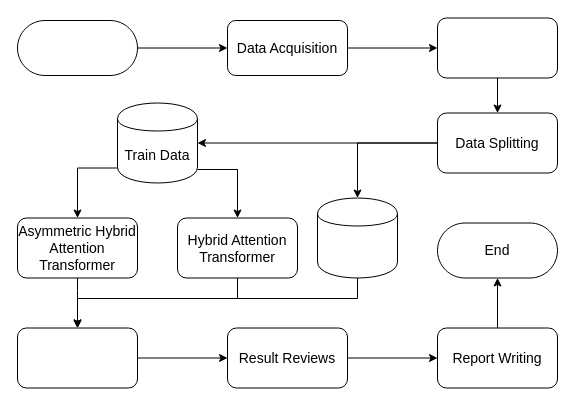
This 575x405 diagram has some shape labels left out. Here are the shapes that lost their labels. From the top down, the centre of each, then its label:
[77,48]: Start
[497,47]: Data Pre-processing
[357,237]: Test Data
[77,357]: Model Validation
